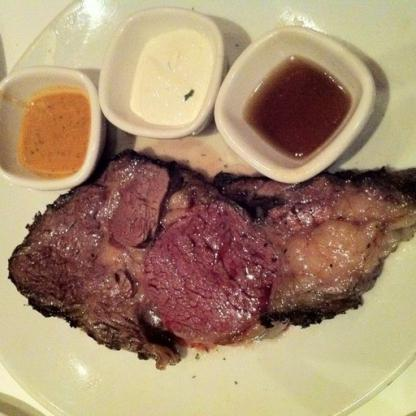beef: (5, 156, 415, 371)
yogurt: (128, 24, 212, 126)
